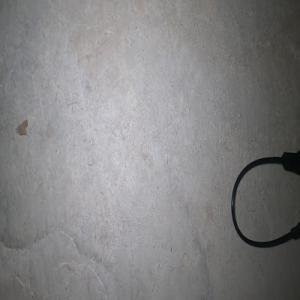Wire: (231, 149, 300, 248)
